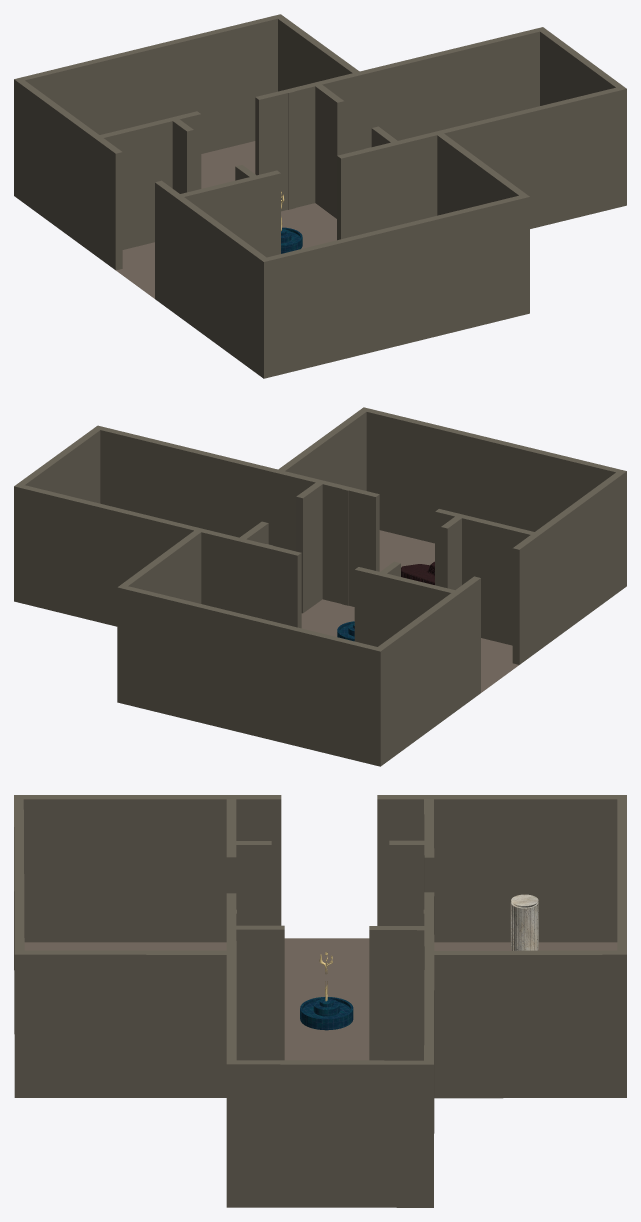
File: Museum Map_Without Artifacts.fbx
The picture shows the model from 3 angles, top to bottom: view 1: azimuth 30°, elevation 25°; view 2: azimuth 150°, elevation 25°; view 3: azimuth 270°, elevation 25°; orthographic projection. The views are drawn at different scales.
Visible parts, largest first — view 1: Wall, Floor; view 2: Wall, Floor, Sofa; view 3: Wall, Floor, Statue Stand, Triton Stand.
Boxes of the visible parts, left/top/right/bottom form: Wall: left=14, top=14, right=626, bottom=378; Floor: left=116, top=141, right=336, bottom=298; Wall: left=14, top=407, right=626, bottom=766; Floor: left=301, top=530, right=518, bottom=692; Sofa: left=401, top=561, right=434, bottom=584; Wall: left=14, top=795, right=626, bottom=1207; Floor: left=24, top=938, right=617, bottom=1060; Statue Stand: left=510, top=894, right=538, bottom=950; Triton Stand: left=300, top=997, right=353, bottom=1030.
Bounding box in the file's own units: 3215 × 796 × 3090.
